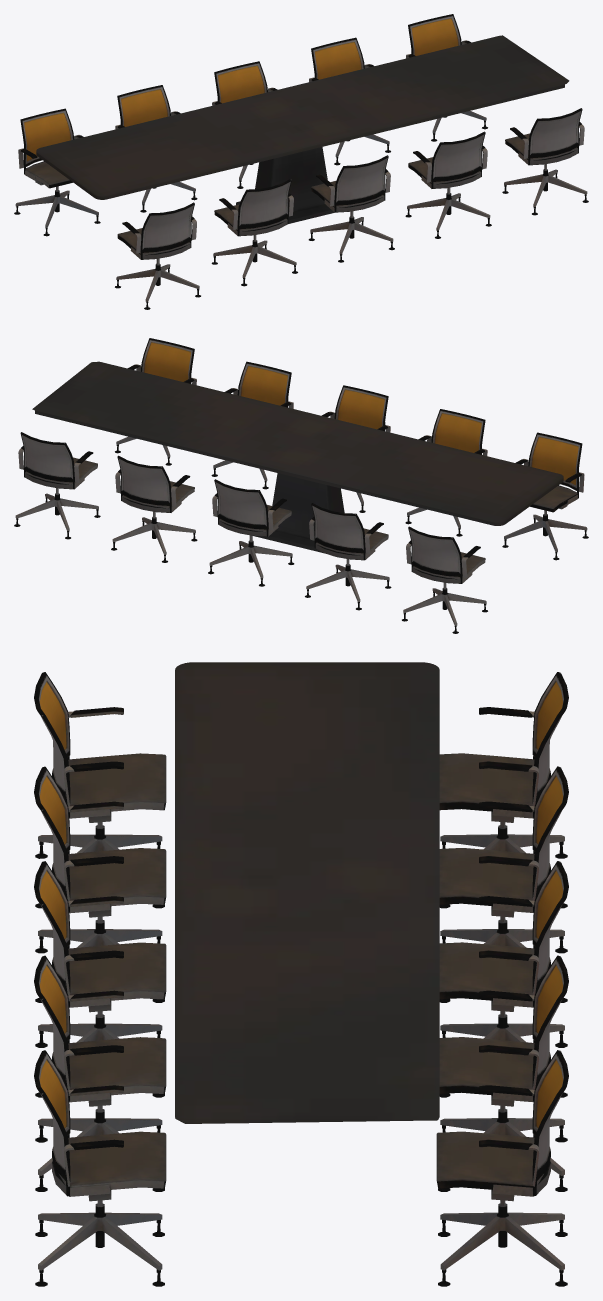
The model's file is meeting-set.glb.
3 views of the same model, one above another, from view 1: azimuth 30°, elevation 25°; view 2: azimuth 150°, elevation 25°; view 3: azimuth 270°, elevation 25° (orthographic). The views are drawn at different scales.
Parts seen in each view (by area): view 1: MeetSet_0; view 2: MeetSet_0; view 3: MeetSet_0.
Part boxes in pixels (bbox=[...]): MeetSet_0: bbox=[14, 14, 588, 309]; MeetSet_0: bbox=[14, 338, 588, 633]; MeetSet_0: bbox=[34, 662, 568, 1286].
Size of the model in its own units: 5.4 by 1.02 by 2.64.
Materials: 1 (1 with a texture image).
